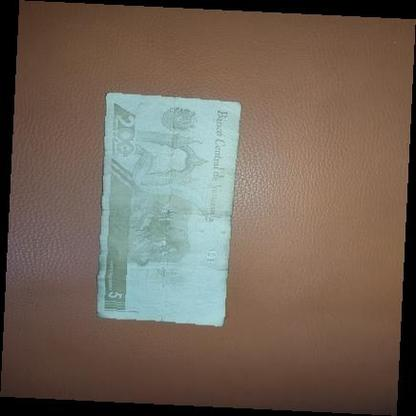five-back-vef: (96, 92, 242, 328)
